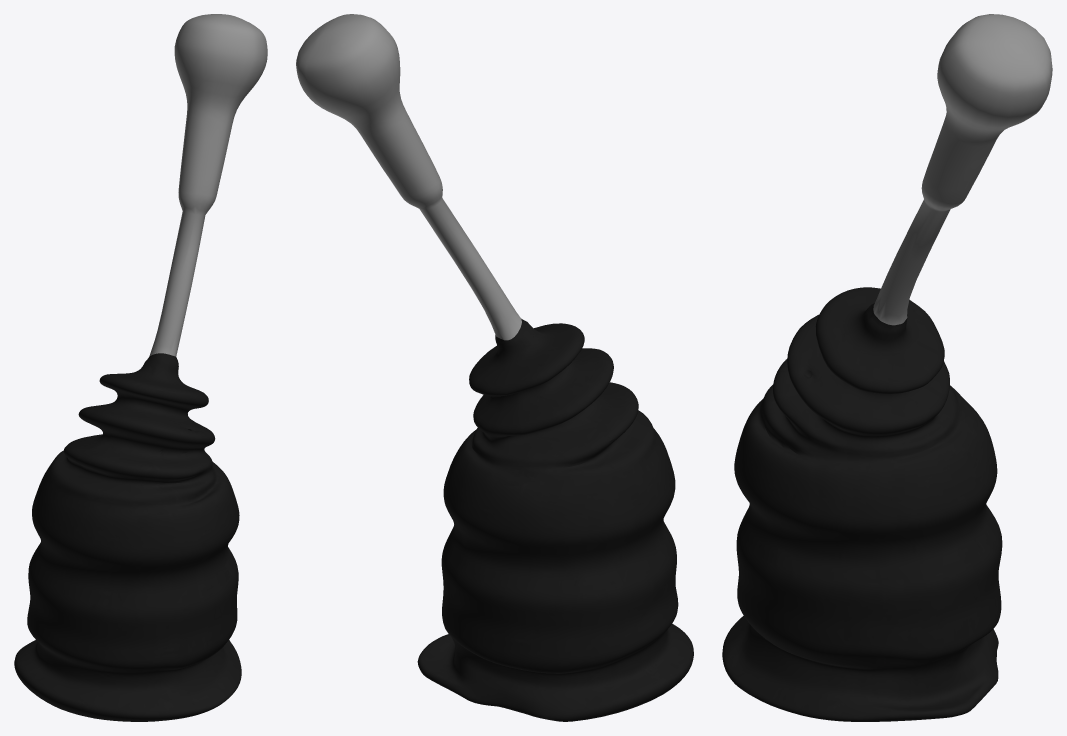
The model's file is gearbox.glb.
The picture shows the model from 3 angles, left to right: view 1: azimuth 30°, elevation 25°; view 2: azimuth 150°, elevation 25°; view 3: azimuth 270°, elevation 25°; orthographic projection. The views are drawn at different scales.
Parts seen in each view (by area): view 1: gearbox; view 2: gearbox; view 3: gearbox.
Part boxes in pixels (x1,y1,x2,y2): gearbox: (14, 14, 267, 721); gearbox: (296, 14, 693, 721); gearbox: (722, 14, 1052, 721).
Size of the model in its own units: 0.5021 by 1 by 0.4103.
2 materials, 1 textured.
